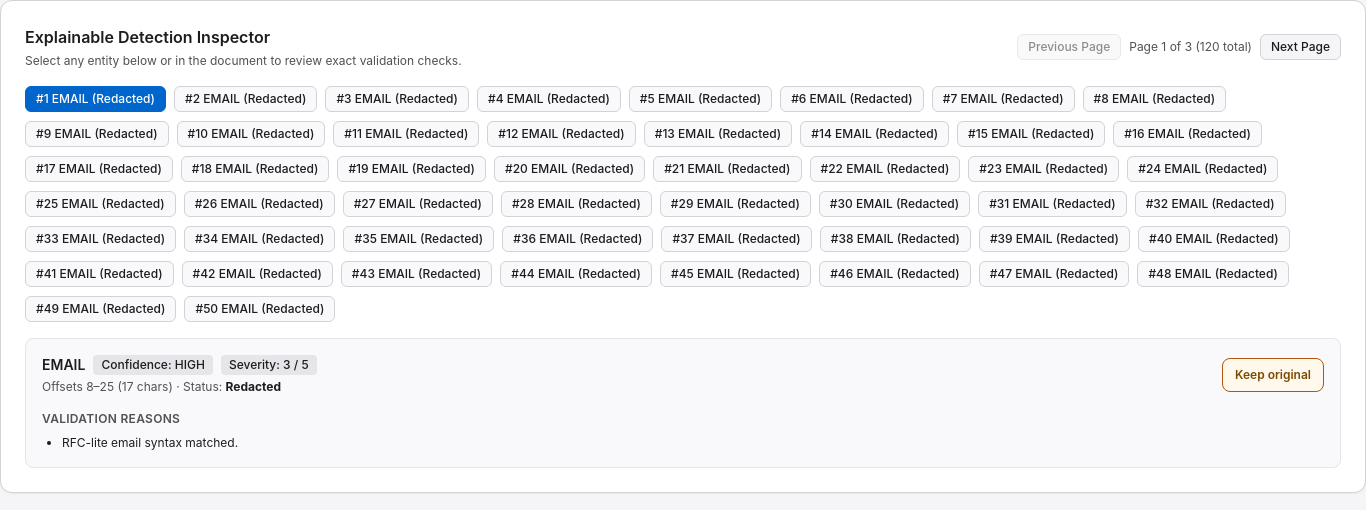
Test case: High-density UI pagination › paginates DetectionInspector at 50 items per page and preserves toggle state
Later steps or results of the test are not shown.
Check: the text "Page 1 of 3 (120 total)" is shown, box [1129,39,1252,55]
Check: the button "#1 EMAIL (Redacted)" is shown, box [25,86,166,112]
Click the button "Next Page": (1300, 47) [1260,34,1341,60]
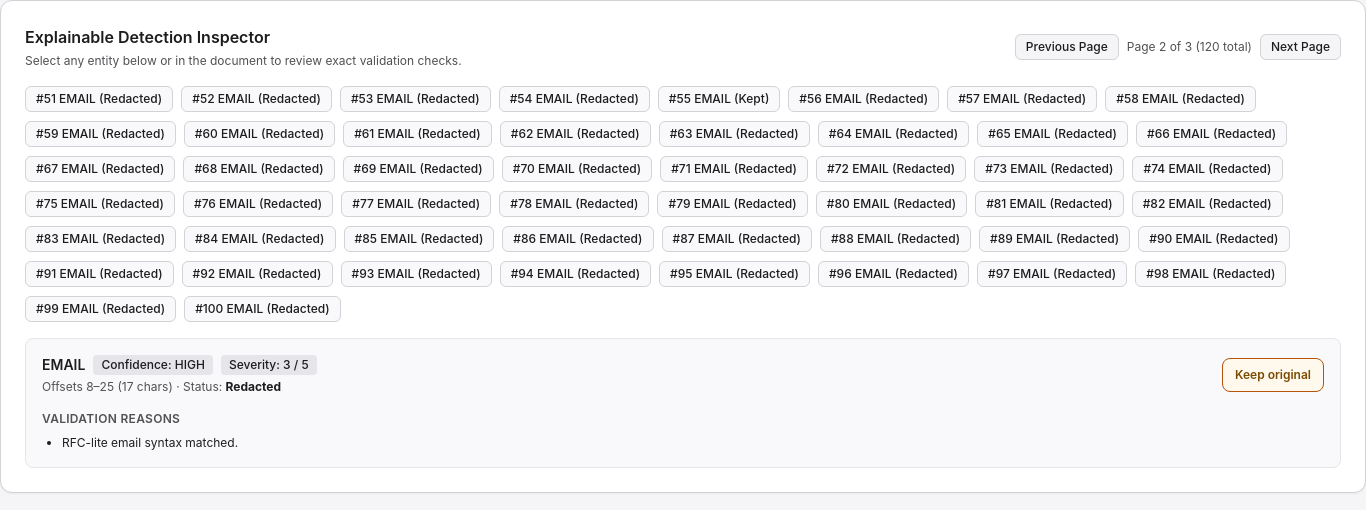
Check: the text "Page 2 of 3 (120 total)" is shown, box [1127,39,1252,55]
Check: the button "#55 EMAIL (Kept)" is shown, box [658,86,780,112]
